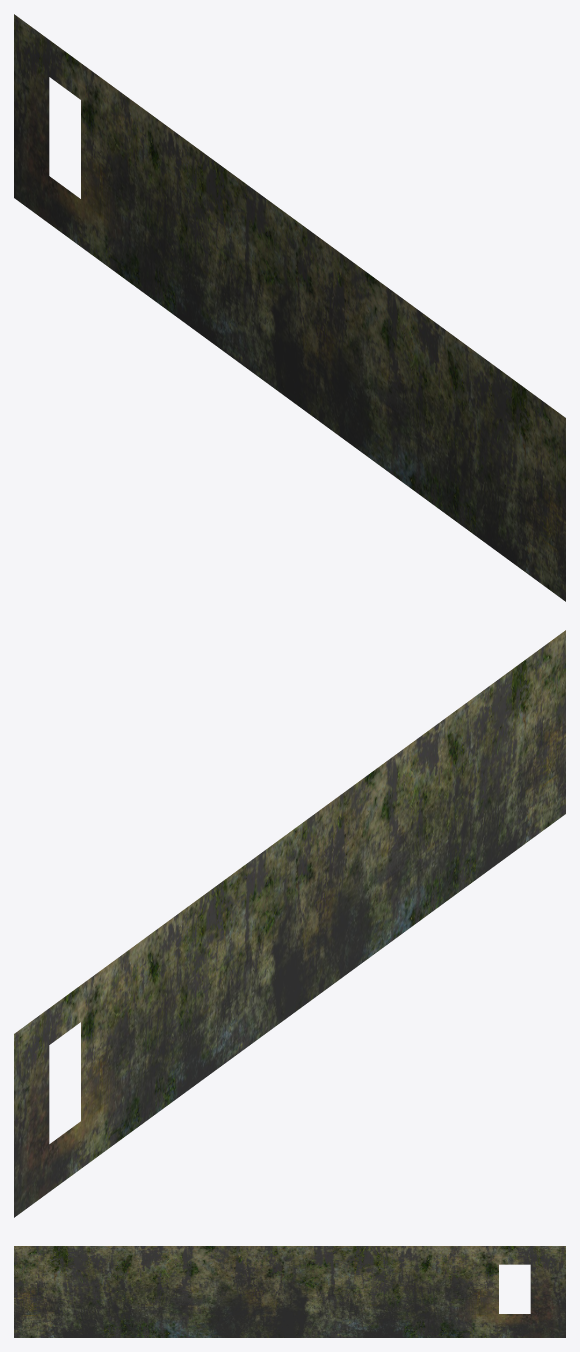
The model's file is Wall_11.FBX.
The picture shows the model from 3 angles, top to bottom: view 1: azimuth 30°, elevation 25°; view 2: azimuth 150°, elevation 25°; view 3: azimuth 270°, elevation 25°; orthographic projection. The views are drawn at different scales.
Visible parts, largest first — view 1: Wall_11; view 2: Wall_11; view 3: Wall_11.
Part boxes in pixels (x1=…): Wall_11: x1=14, y1=14, x2=565, y2=601; Wall_11: x1=14, y1=630, x2=565, y2=1217; Wall_11: x1=14, y1=1246, x2=565, y2=1337.
Bounding box in the file's own units: 0.0114 × 320 × 1741.
